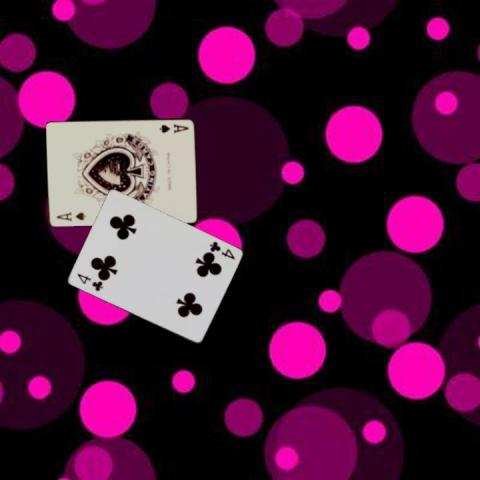4c: (74, 270, 104, 292), (206, 239, 236, 261)
As: (53, 208, 88, 222), (156, 121, 190, 134)
